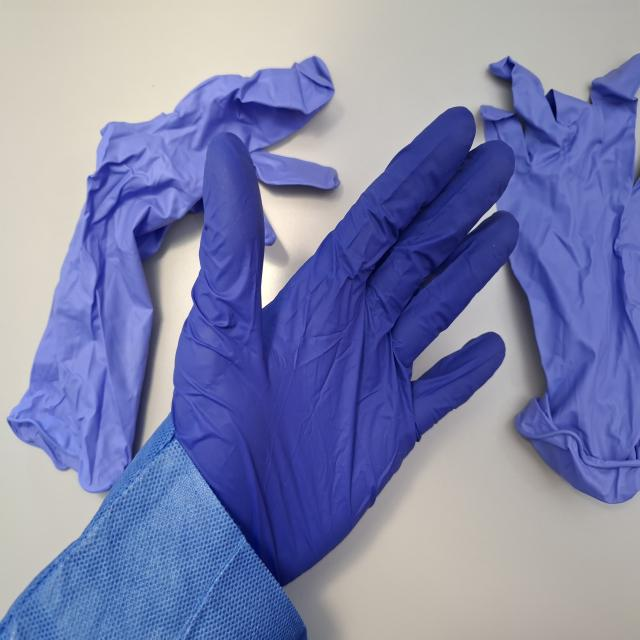glove_on: (162, 105, 519, 592)
